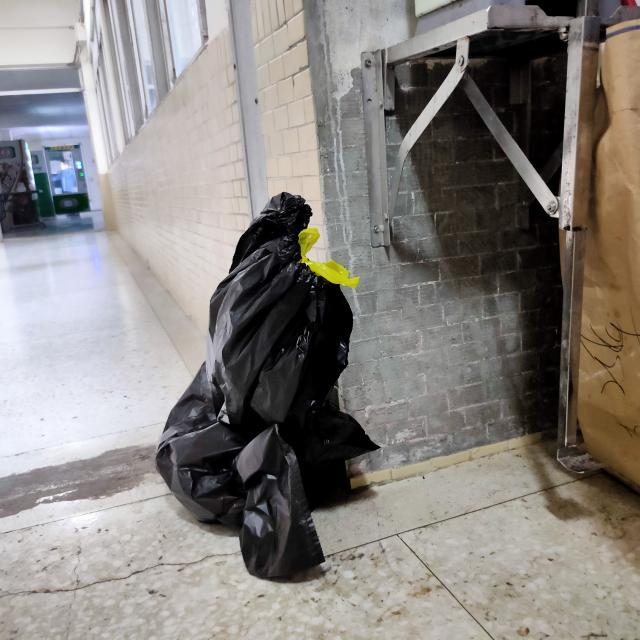Vinyl: (130, 160, 418, 597), (138, 175, 390, 592)
